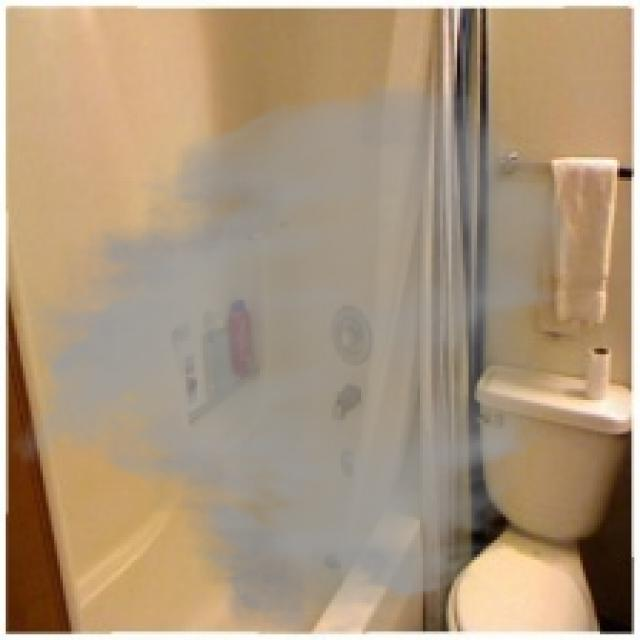smoke: (9, 72, 580, 637)
